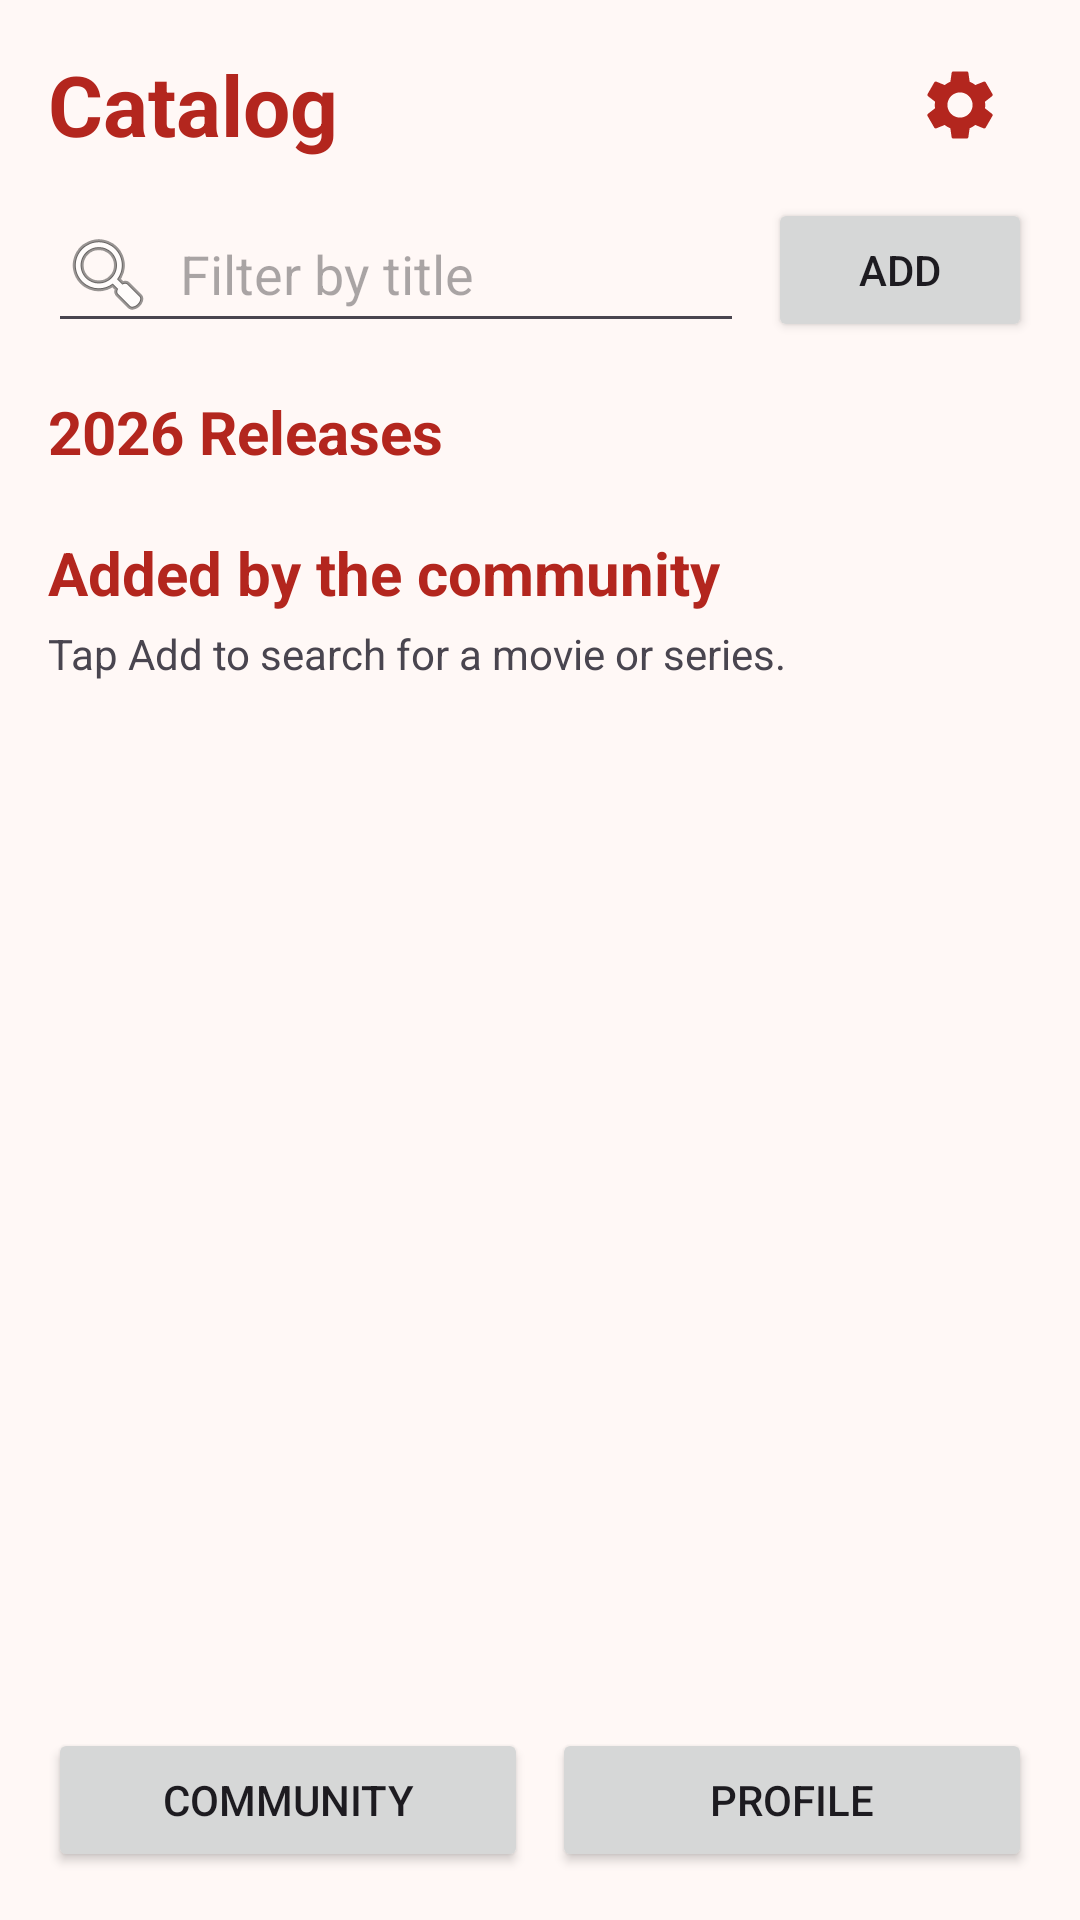

Icon click points for this 1080px×1920px phone screenshot, format point (x, y):
Settings: point (960, 105)
